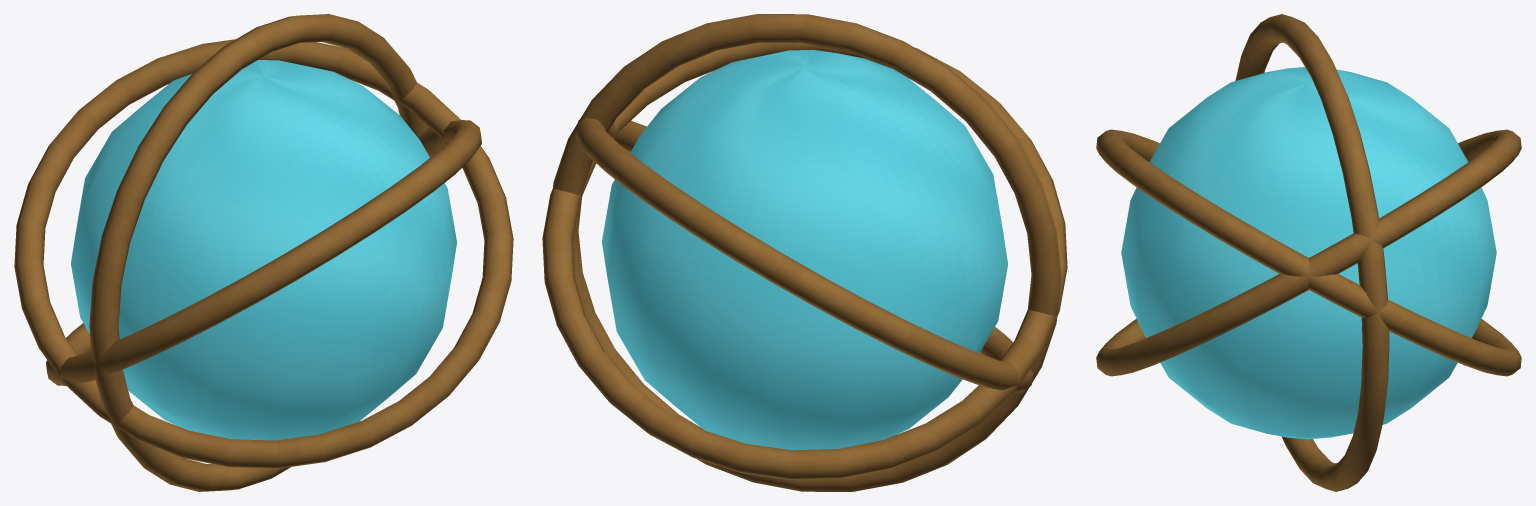
File: relic-orb.lod1.glb
3 renders of one model, left to right at view 1: azimuth 30°, elevation 25°; view 2: azimuth 150°, elevation 25°; view 3: azimuth 270°, elevation 25°, orthographic. The views are drawn at different scales.
Visible parts, largest first — view 1: crystal.0, brass.3, brass.1, brass.2; view 2: crystal.0, brass.1, brass.2, brass.3; view 3: crystal.0, brass.1, brass.3, brass.2.
Part boxes in pixels (box(x1,y1,x2,y2)): crystal.0: box(71, 60, 456, 440); brass.3: box(14, 39, 513, 468); brass.1: box(89, 14, 430, 491); brass.2: box(46, 120, 481, 385); crystal.0: box(602, 49, 1007, 450); brass.1: box(552, 14, 1061, 491); brass.2: box(542, 42, 1067, 479); brass.3: box(575, 117, 1033, 392); crystal.0: box(1121, 67, 1496, 439); brass.1: box(1235, 14, 1389, 491); brass.3: box(1096, 129, 1521, 376); brass.2: box(1096, 129, 1521, 376).
Bounding box in the file's own units: 0.2942 × 0.308 × 0.2719.
Materials: 2 (2 with a texture image).
